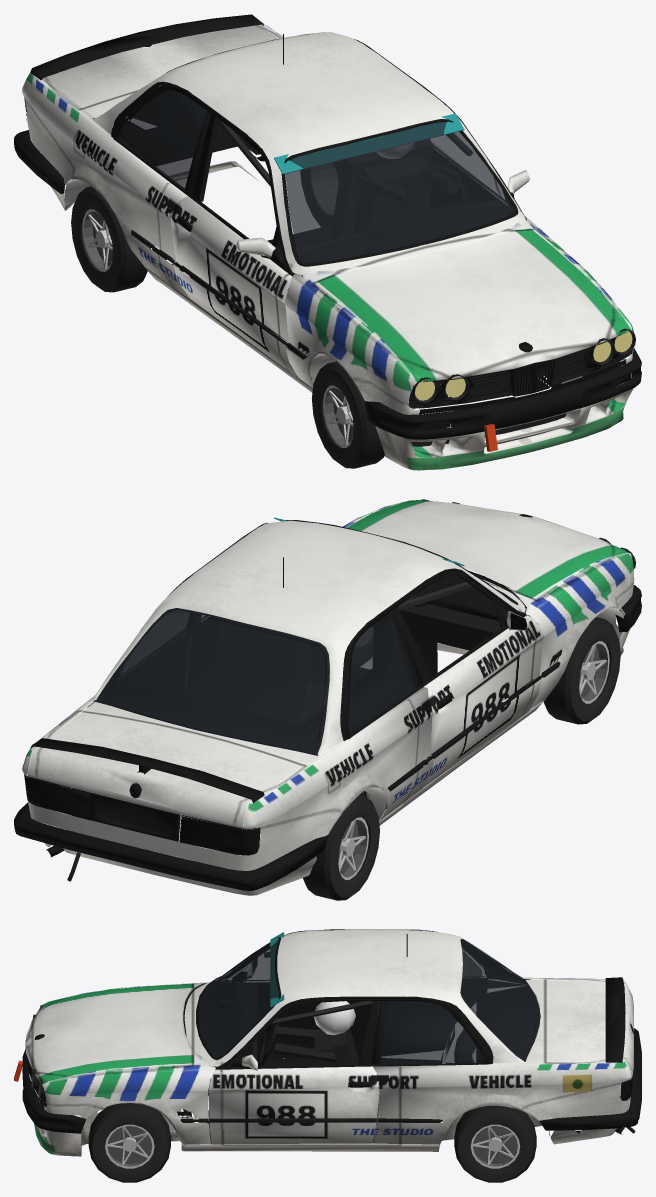
3 views of the same model, one above another, from view 1: azimuth 30°, elevation 25°; view 2: azimuth 150°, elevation 25°; view 3: azimuth 270°, elevation 25° (orthographic). The views are drawn at different scales.
Parts seen in each view (by area): view 1: body, wheel_fr, wheel_rr, wheel_rl; view 2: body, wheel_fr, wheel_rr, wheel_fl; view 3: body, wheel_fl, wheel_rl, wheel_rr.
Boxes of the visible parts, x1,y1,x2,y2 form: body: (14, 14, 641, 470); wheel_fr: (311, 361, 384, 468); wheel_rr: (71, 186, 150, 292); wheel_rl: (300, 162, 341, 226); body: (14, 499, 641, 895); wheel_fr: (541, 617, 620, 724); wheel_rr: (303, 794, 379, 900); wheel_fl: (344, 627, 373, 666); body: (14, 929, 641, 1156); wheel_fl: (88, 1103, 170, 1182); wheel_rl: (454, 1105, 536, 1182); wheel_rr: (454, 1029, 476, 1062).
Size of the model in its own units: 1.8 by 1.57 by 4.41.
2 materials, 1 textured.
